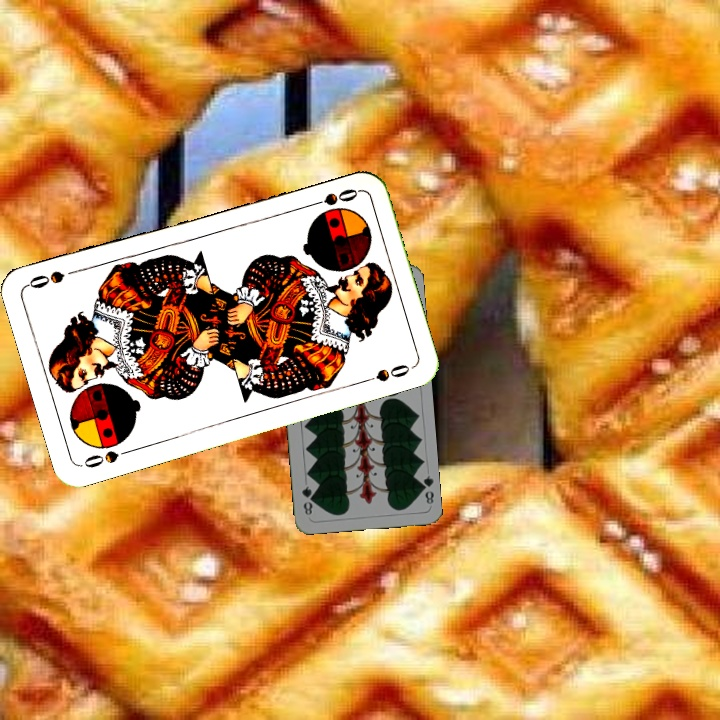G8: (415, 471, 436, 506)
SO: (303, 184, 361, 210), (78, 445, 136, 471)
